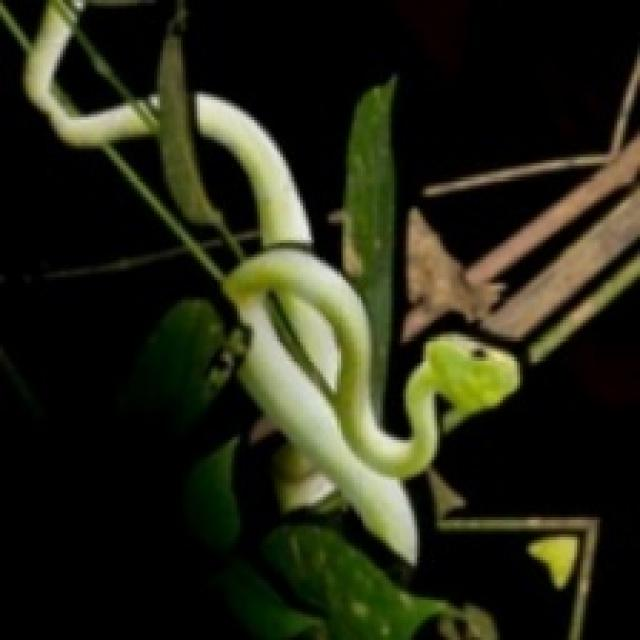north ph temple pitviper: (23, 0, 517, 560)
